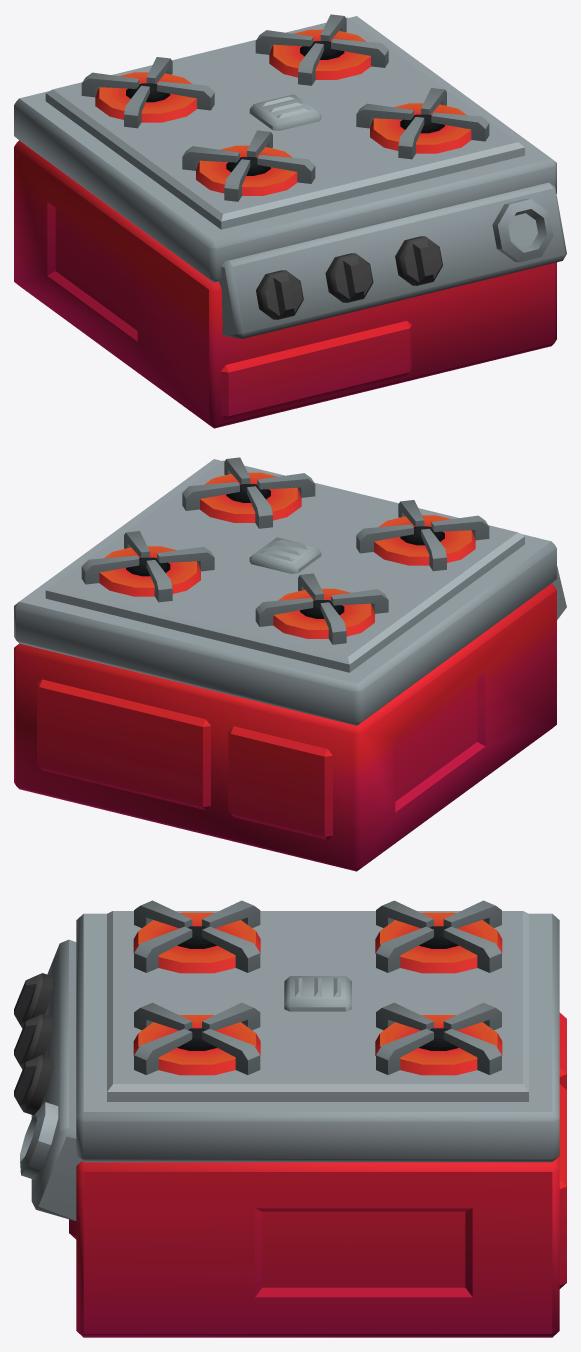
Rendered from kkr.stove_multi.glb.
3 views of the same model, one above another, from view 1: azimuth 30°, elevation 25°; view 2: azimuth 150°, elevation 25°; view 3: azimuth 270°, elevation 25° (orthographic). The views are drawn at different scales.
Visible parts, largest first — view 1: stove_multi; view 2: stove_multi; view 3: stove_multi.
Part boxes in pixels (box(x1,y1,x2,y2)): stove_multi: box(14, 14, 566, 428); stove_multi: box(14, 457, 566, 871); stove_multi: box(14, 900, 566, 1337).
Bounding box in the file's own units: 1.49 × 0.894 × 1.7.
1 material, 1 textured.
